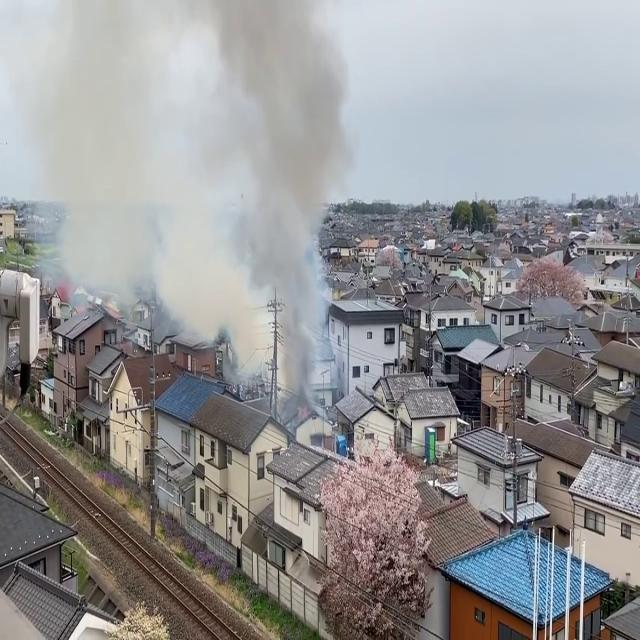Smoke: (20, 0, 348, 391)
